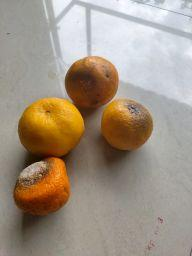orange: (18, 97, 86, 158), (13, 155, 71, 218), (64, 55, 119, 110), (99, 98, 155, 151)
